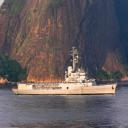Portanaves: (13, 47, 119, 96)
